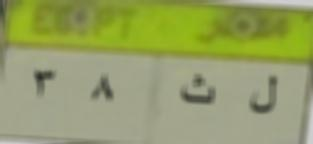3: (30, 65, 57, 107)
8: (90, 73, 115, 105)
laam: (245, 66, 279, 120)
thaa: (177, 70, 216, 114)
